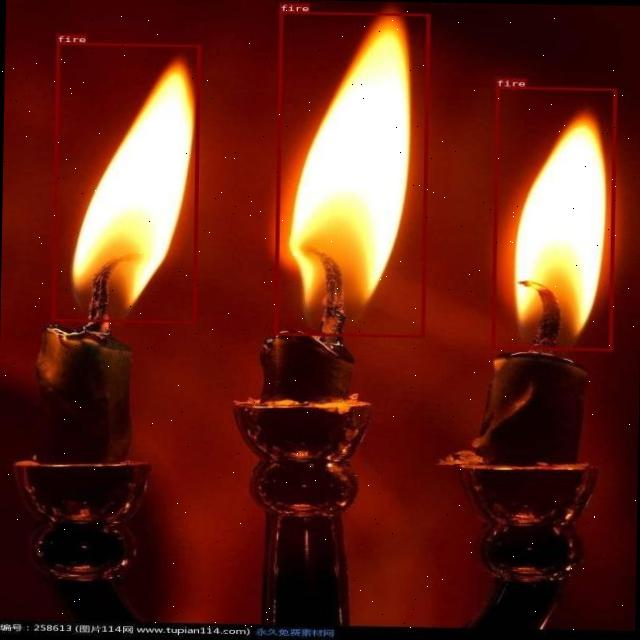fire: (272, 10, 430, 337), (51, 41, 200, 322), (491, 86, 616, 350)
